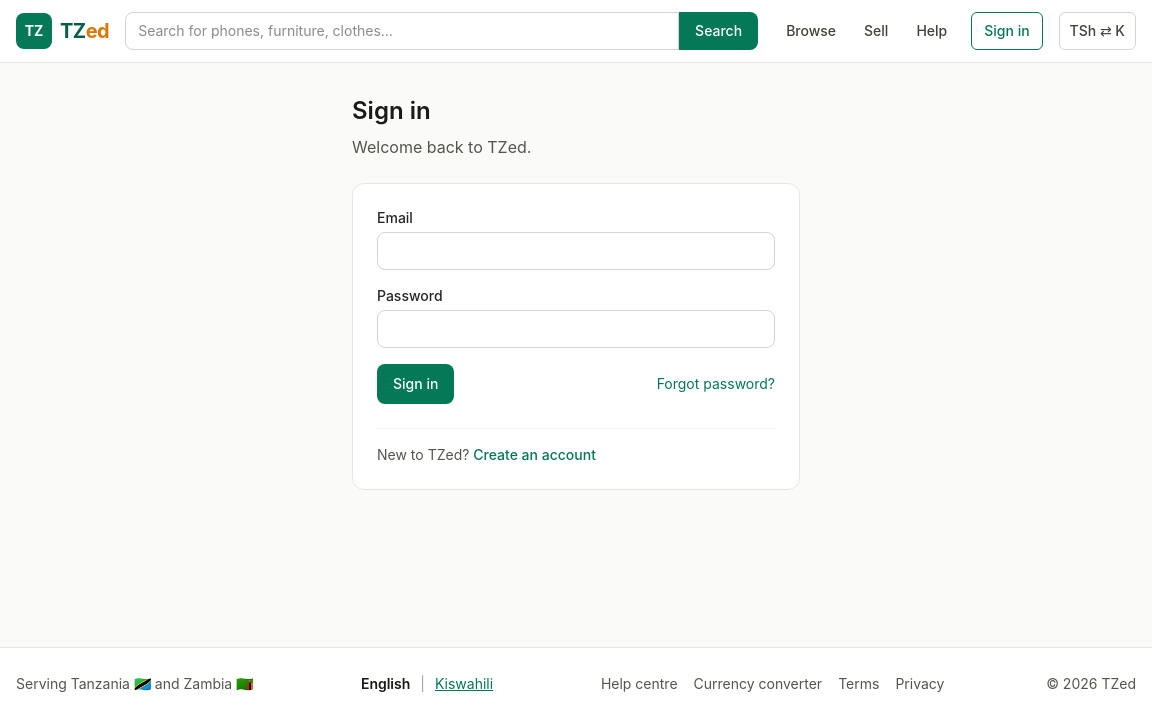
Sign in › signs in with the CSRF token and goes to the requested page
Type "natasha@example.com" into the field labelled "Email" at [576, 251], box [377,232,775,270]
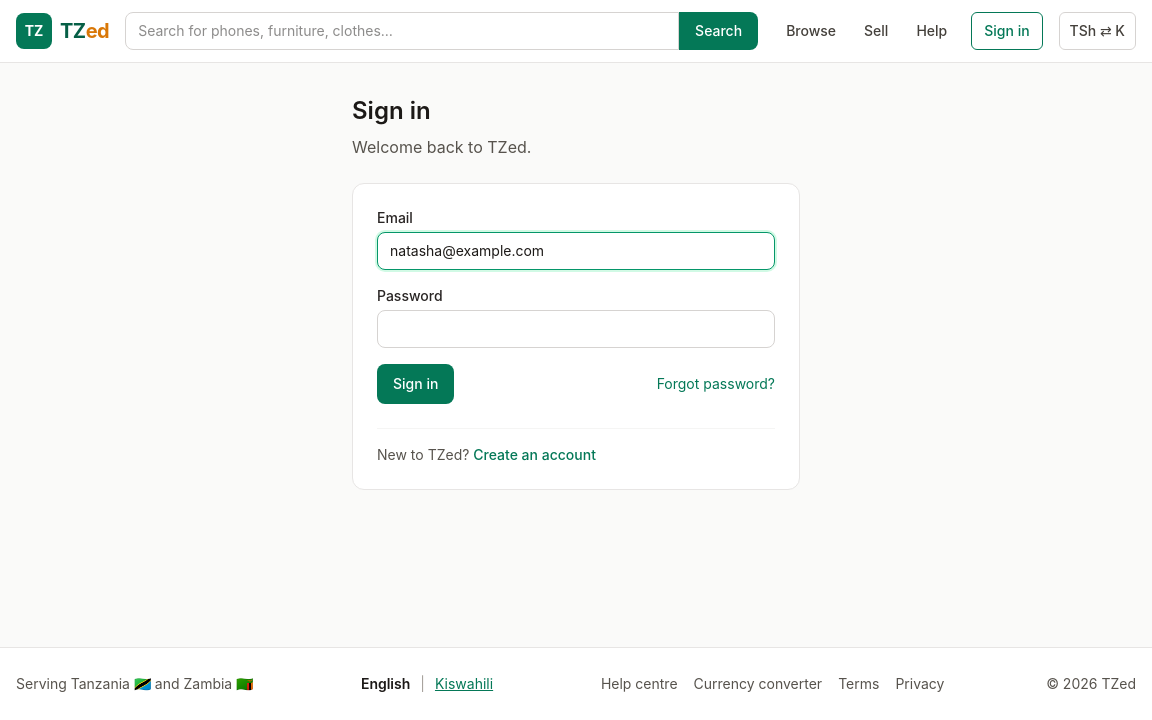
Type "a-good-password" into the password field labelled "Password" at [576, 329], box [377,310,775,348]
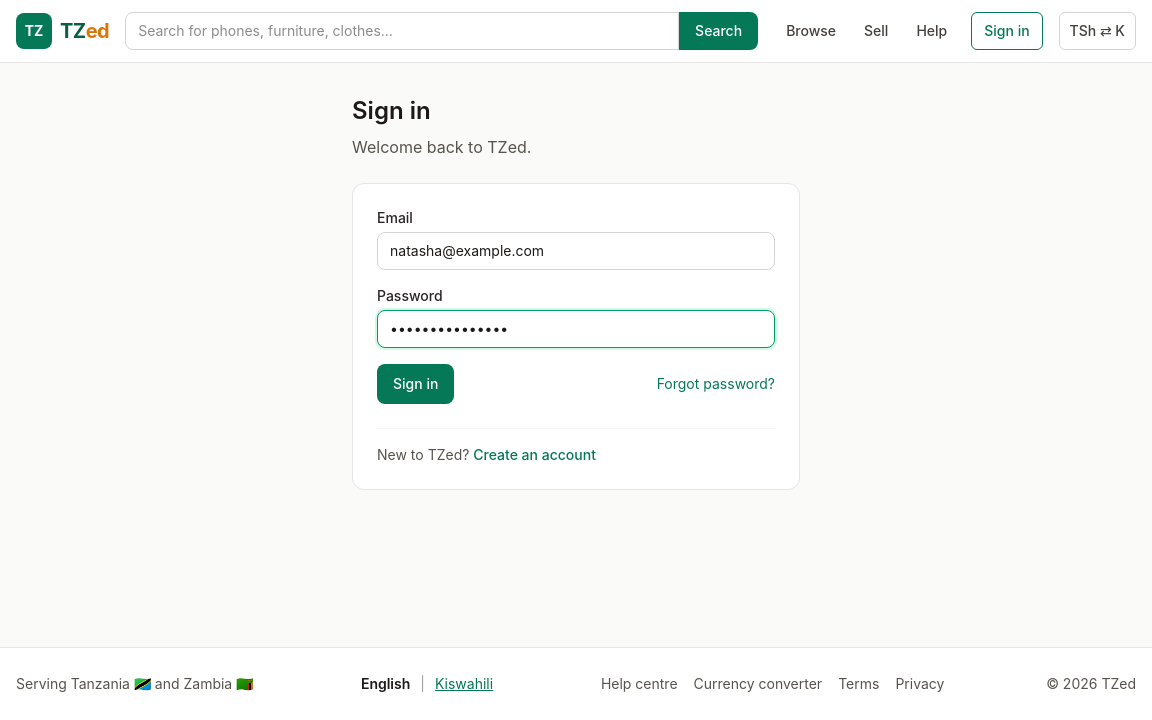
Click the button "Sign in" at [416, 384], box [377,364,454,404]
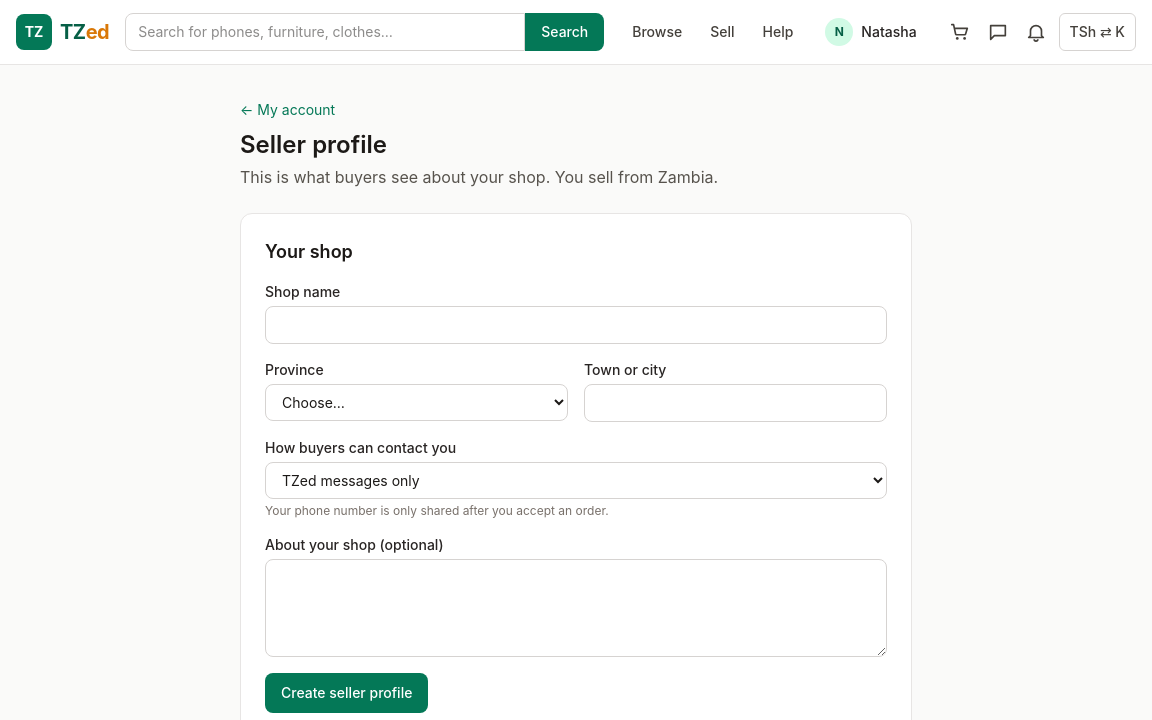
Expected: the heading "Seller profile" is shown, [240,130,387,159]
Expected: the button "N Natasha" is shown, [817,12,925,52]
